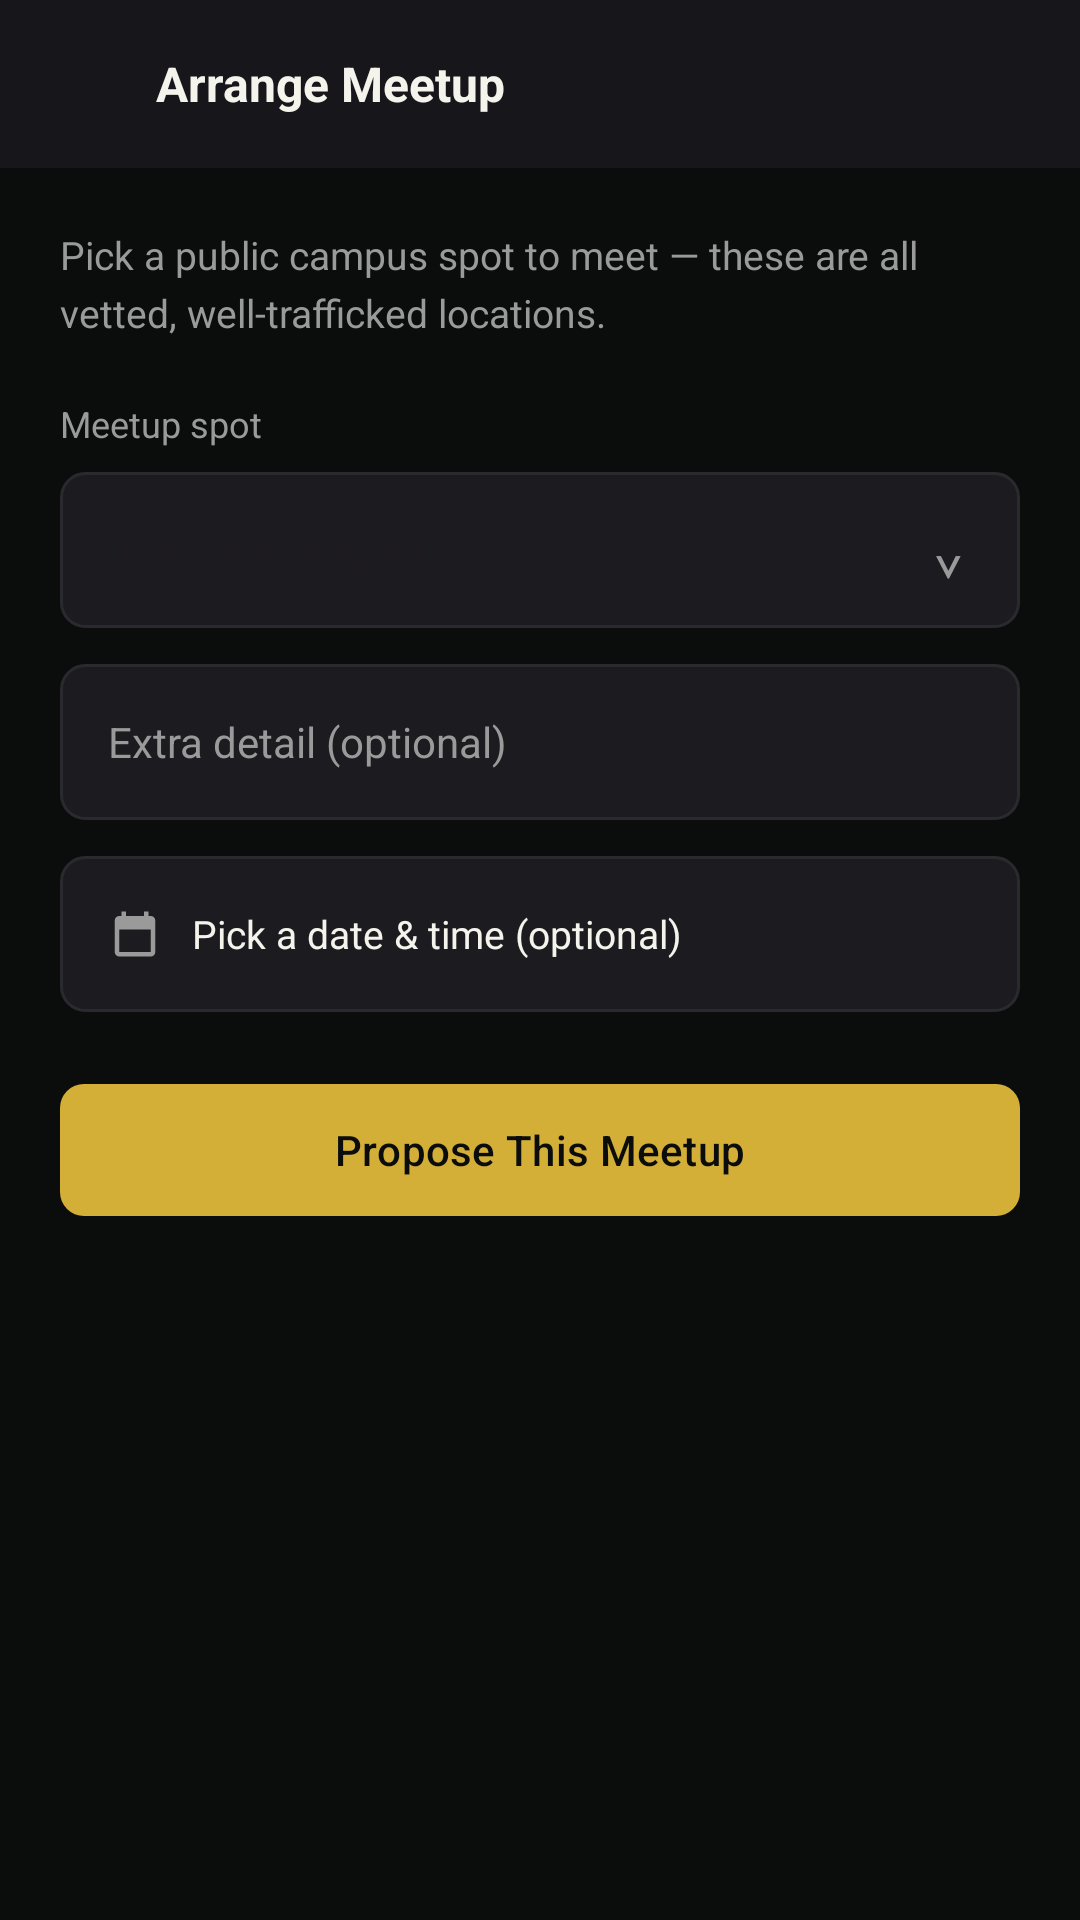

Where icons sit on this 1080×1920 app screen, as [x1,y1,x2,y2]:
Date and time: [114,911,156,957]
